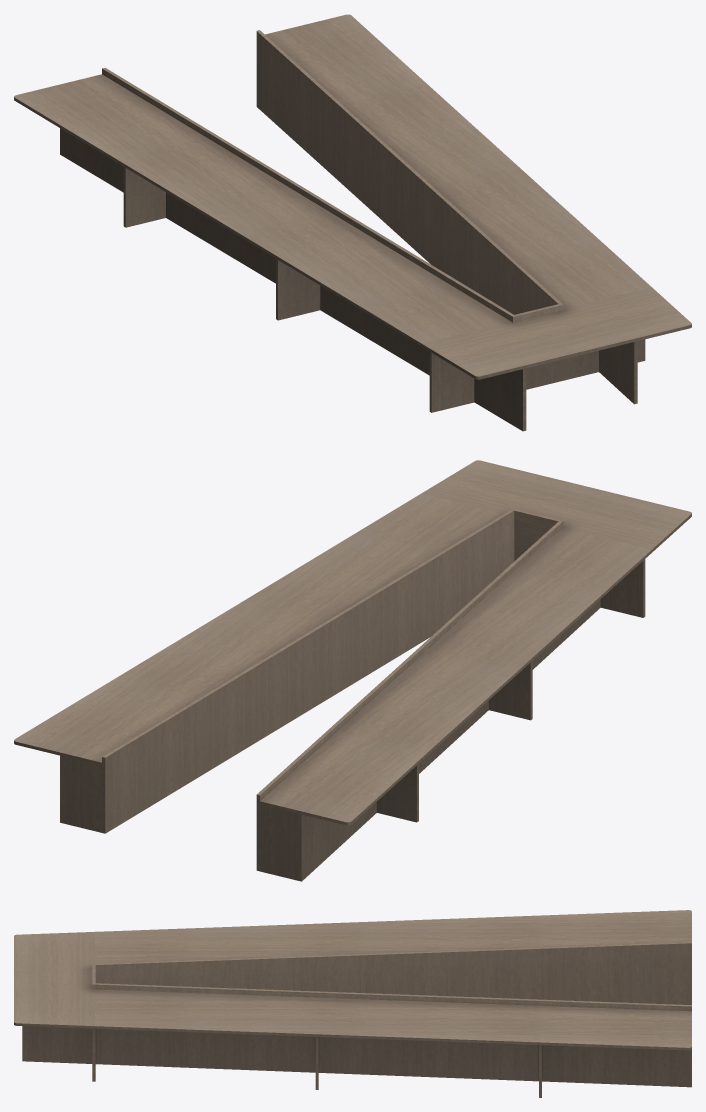
Rendered from Table_Vshaped.gltf.
The picture shows the model from 3 angles, top to bottom: view 1: azimuth 30°, elevation 25°; view 2: azimuth 150°, elevation 25°; view 3: azimuth 270°, elevation 25°; orthographic projection. The views are drawn at different scales.
Visible parts, largest first — view 1: VshapedTable; view 2: VshapedTable; view 3: VshapedTable.
Part boxes in pixels (left/top/right/bottom): VshapedTable: left=14, top=14, right=691, bottom=431; VshapedTable: left=14, top=460, right=691, bottom=881; VshapedTable: left=14, top=910, right=691, bottom=1097.
Bounding box in the file's own units: 39.92 × 8.6 × 83.
Materials: 1 (1 with a texture image).
